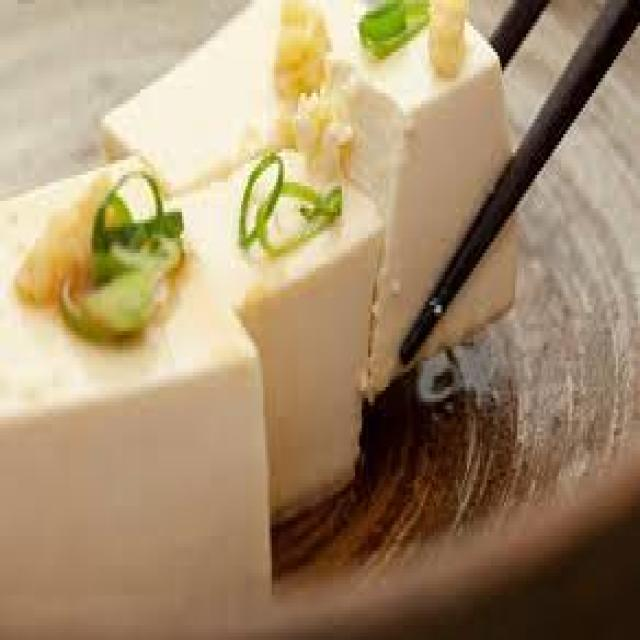tofu: (25, 15, 515, 635)
